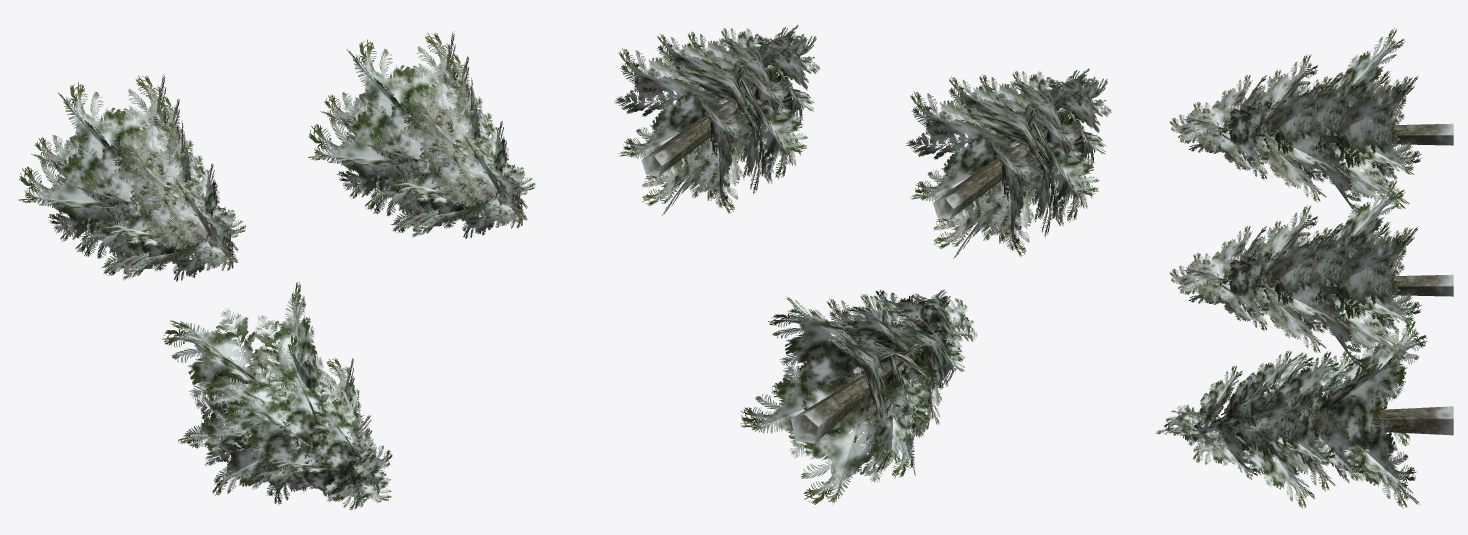
The model's file is zhanchang_fuben_191_xuesonglin_03.obj.
3 views of the same model, side by side, from view 1: azimuth 30°, elevation 25°; view 2: azimuth 150°, elevation 25°; view 3: azimuth 270°, elevation 25° (orthographic). The views are drawn at different scales.
Parts seen in each view (by area): view 1: zhanchang_fuben_191_xuesonglin_03; view 2: zhanchang_fuben_191_xuesonglin_03; view 3: zhanchang_fuben_191_xuesonglin_03.
Part boxes in pixels (x1=…): zhanchang_fuben_191_xuesonglin_03: x1=18, y1=31, x2=535, y2=510; zhanchang_fuben_191_xuesonglin_03: x1=614, y1=25, x2=1111, y2=504; zhanchang_fuben_191_xuesonglin_03: x1=1155, y1=28, x2=1453, y2=508.
Bounding box in the file's own units: 360 × 321 × 211.
Materials: 1 (1 with a texture image).
